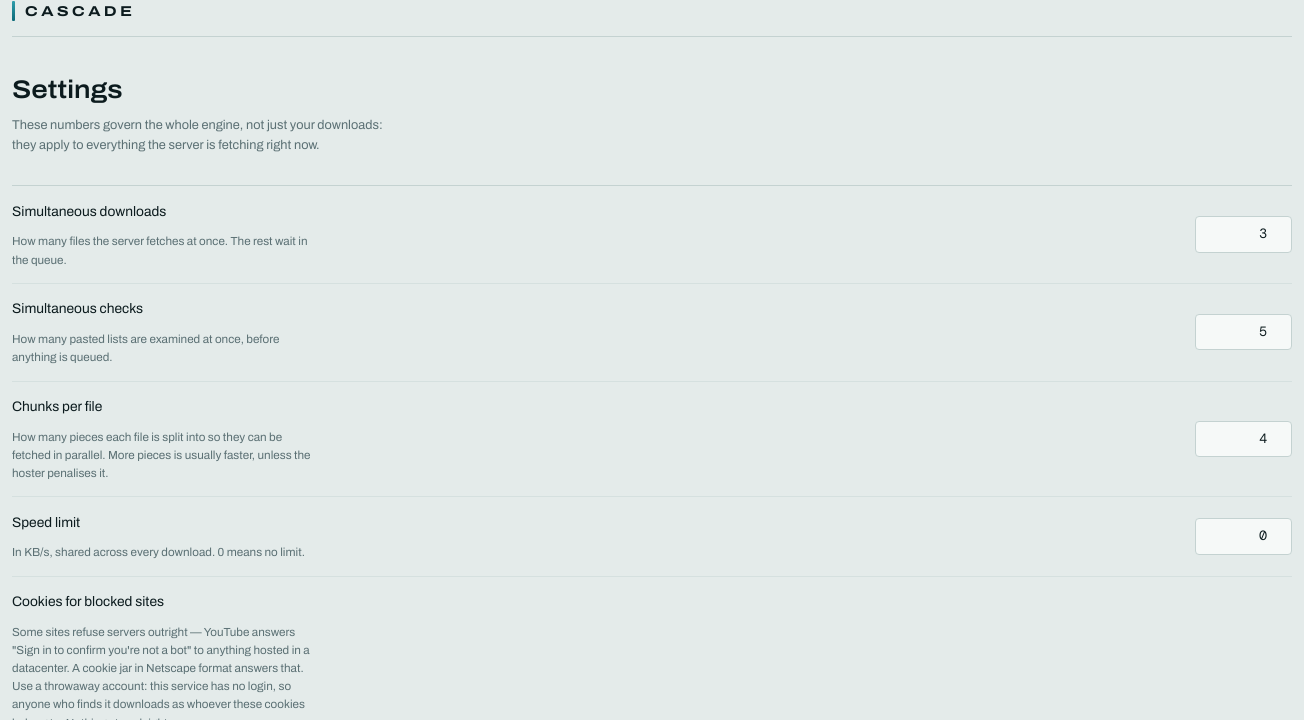
Test: does not send a half-typed number field as 0
The image size is (1304, 720).
Clear the number field labelled "Simultaneous downloads" at x=1243, y=235, box [1194,216,1292,253]
(page scrolled)
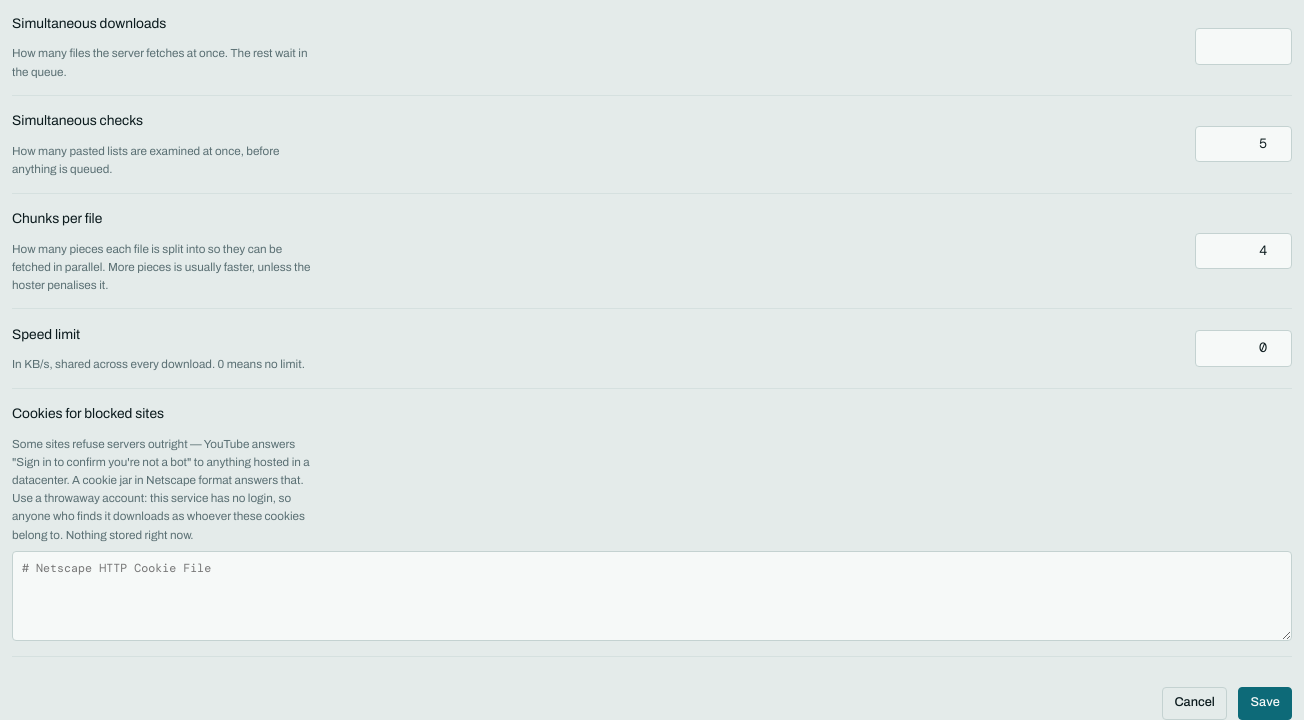
Click the button "Save" at x=1265, y=703, box [1238,687,1292,719]
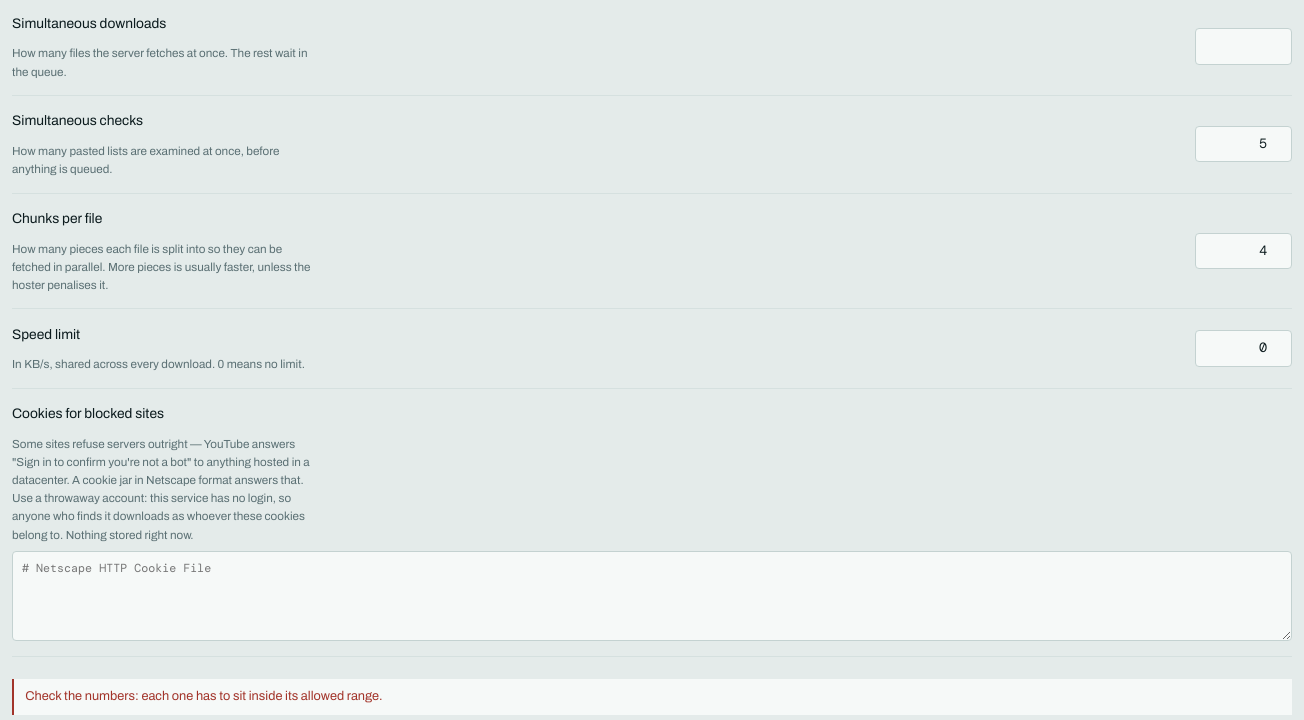
Check: the message "Check the numbers: each one has to sit inside its allowed range." is shown, box [12,679,1292,716]
